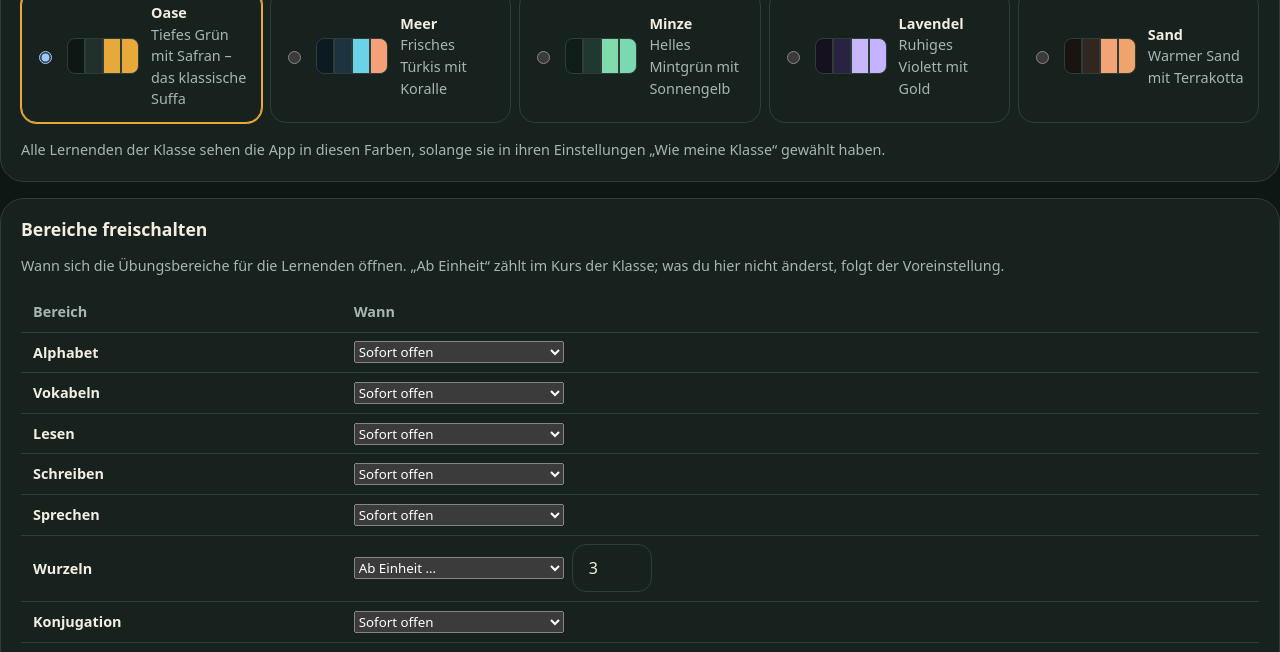
class settings (teacher) › saves the colour scheme and when the areas open
Click the radio button labelled "Meer Frisches Türkis mit Koralle".
click(295, 58)  # box left=288, top=51, right=301, bottom=64
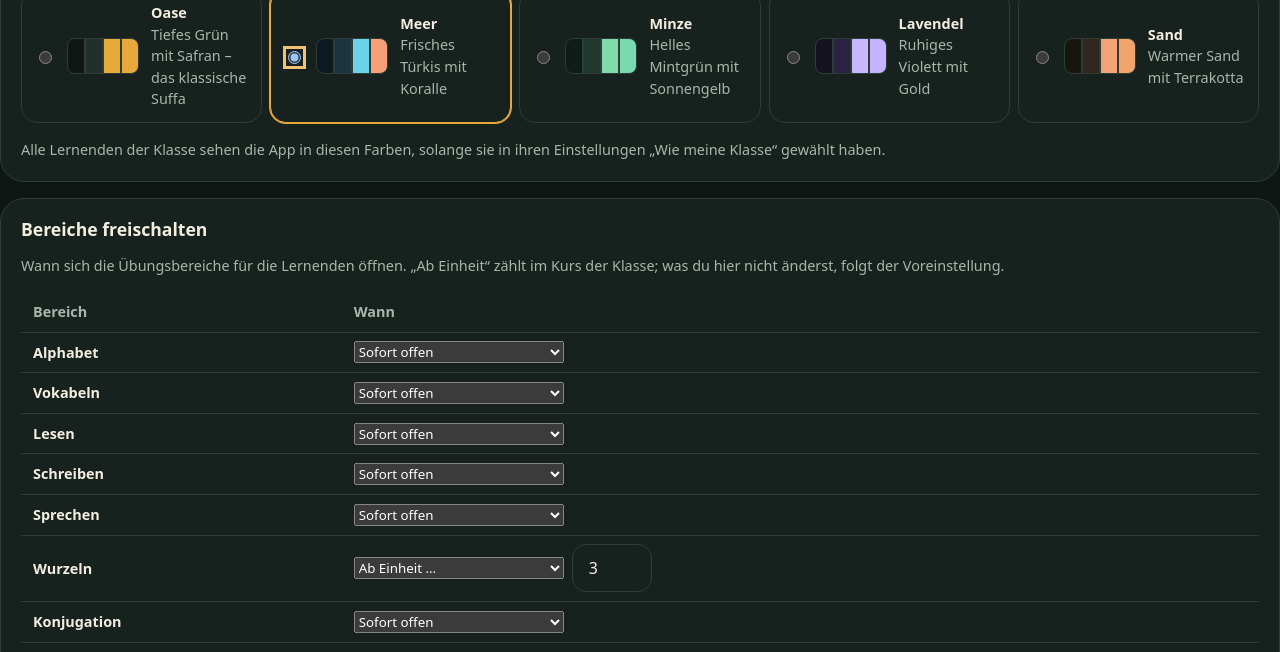
Replace the text in the number field named "Ab Einheit für Wurzeln" with "5" at (612, 568), box left=572, top=544, right=652, bottom=592
(page scrolled)
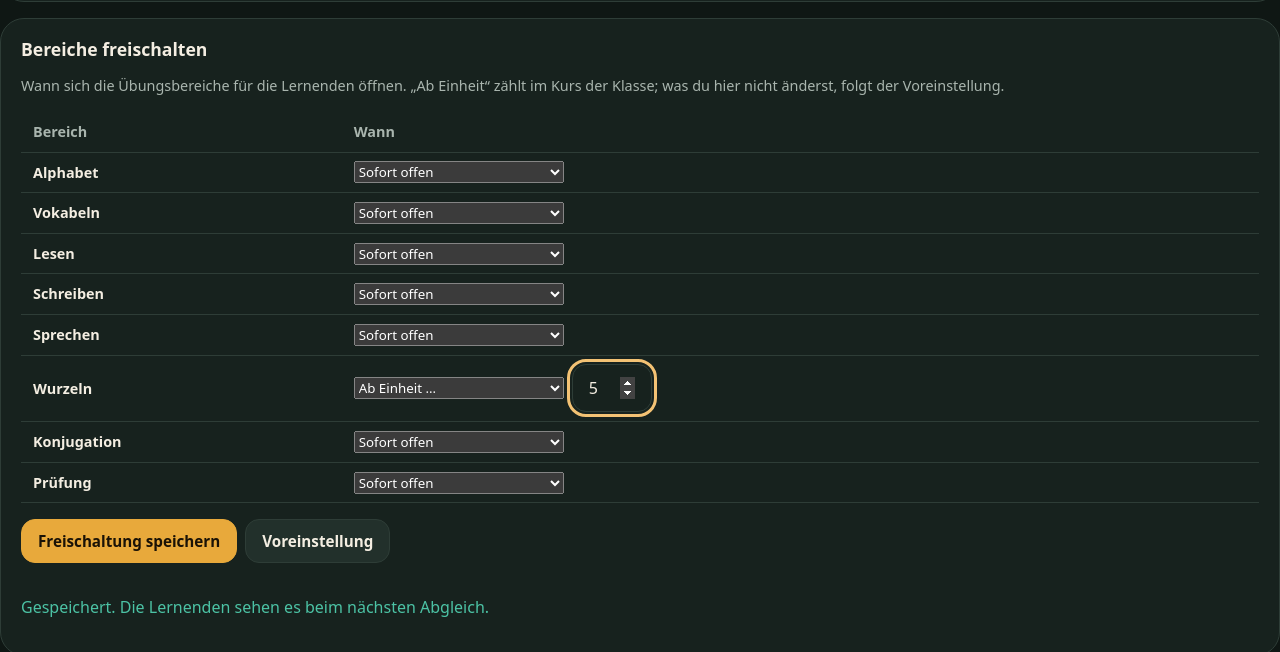
Select "Geschlossen (ich öffne später)" in the dropdown named "Wann öffnet sich Prüfung?" at (459, 483), box left=354, top=472, right=564, bottom=494
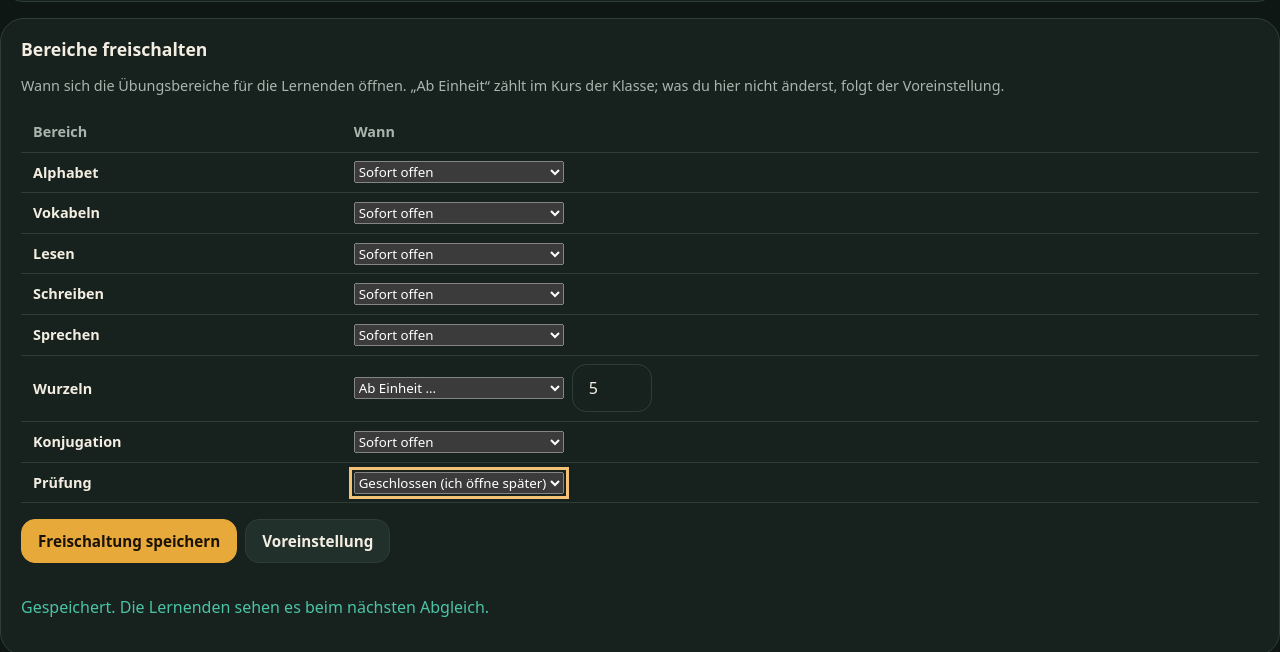
Click the button "Freischaltung speichern".
click(129, 541)  # box left=21, top=519, right=237, bottom=563
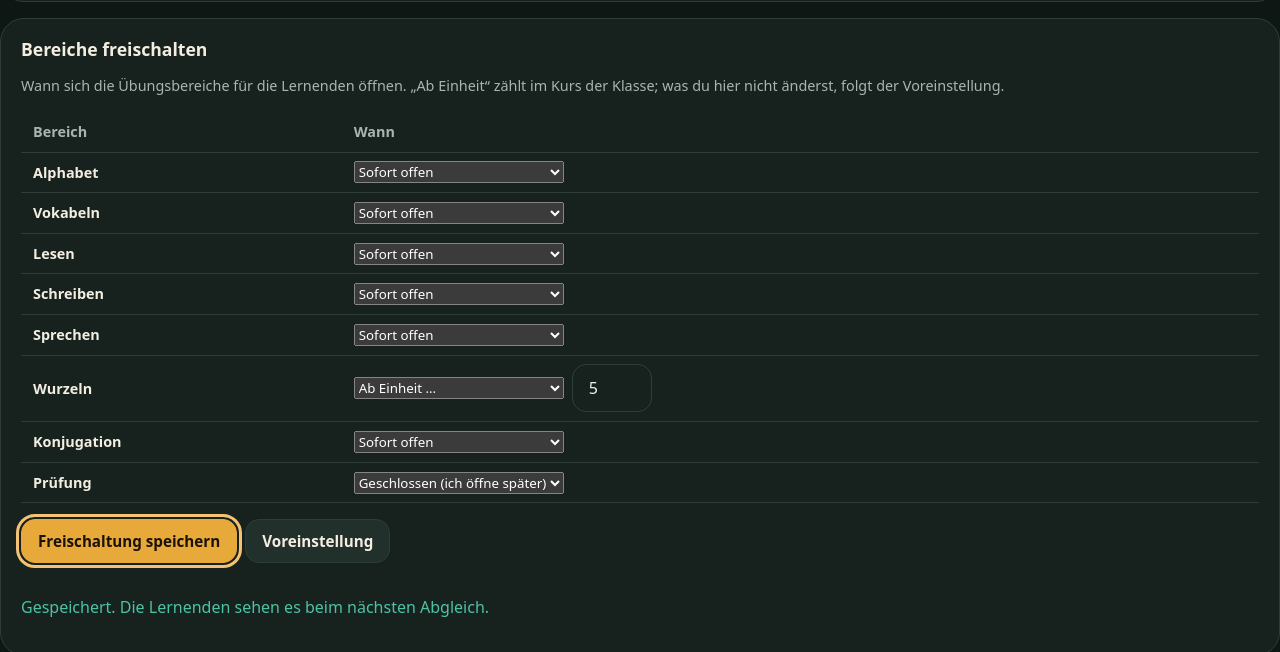
Expected: the message shows "Gespeichert", left=21, top=596, right=489, bottom=618
# Back to the defaults: not saved yet, so the "saved" note goes away.
Click the button "Voreinstellung".
click(318, 541)  # box left=245, top=519, right=390, bottom=563
(page scrolled)
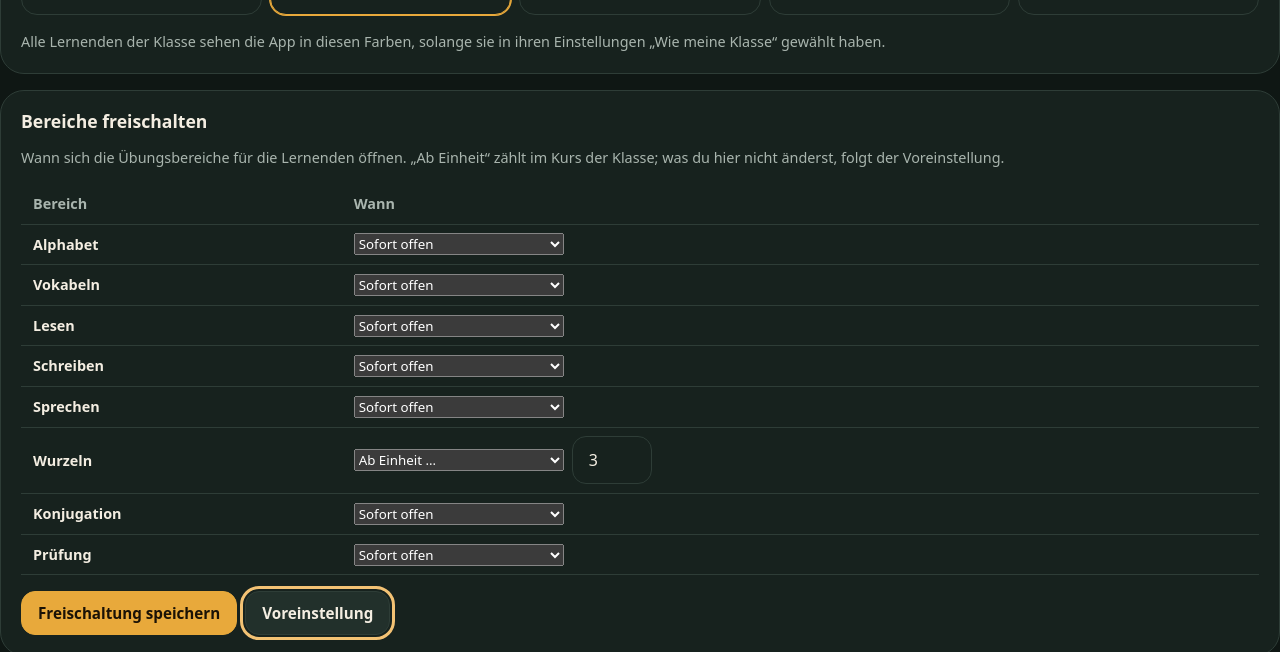
Expected: the message "Gespeichert. Die Lernenden sehen es beim nächsten Abgleich." is gone
Expected: the number field named "Ab Einheit für Wurzeln" holds "3", left=572, top=436, right=652, bottom=484
